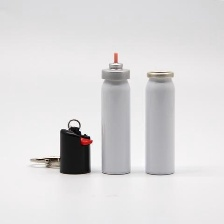aerosol_cans: (98, 50, 132, 176), (140, 67, 178, 179)
